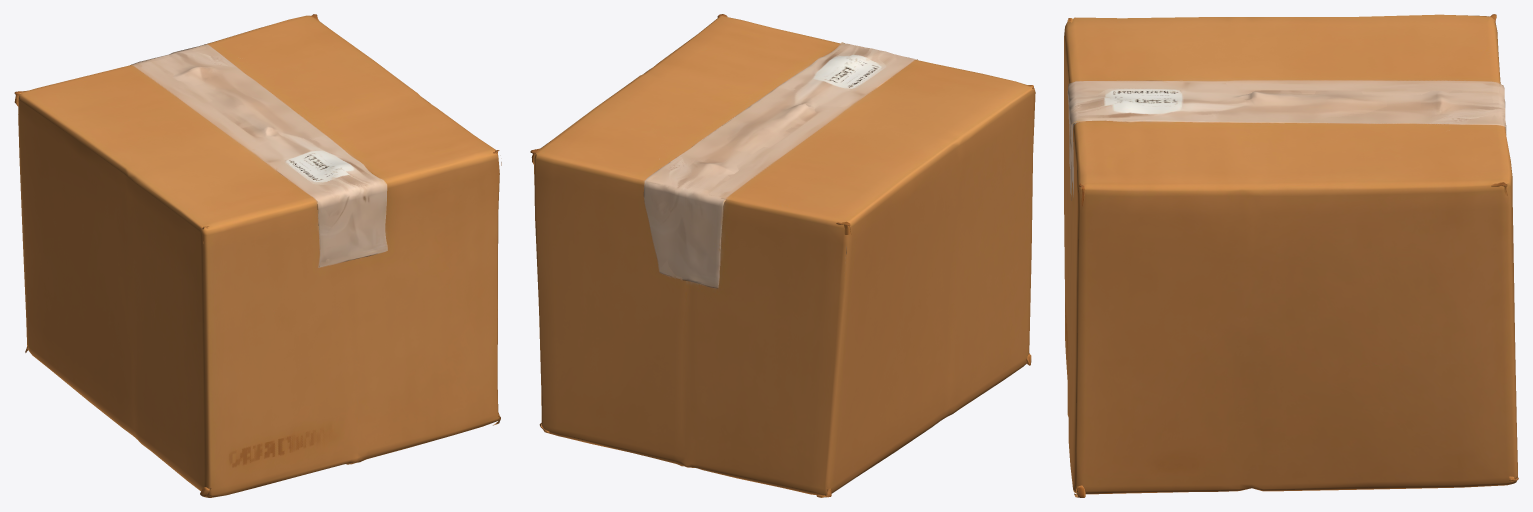
Rendered from carton.glb.
The picture shows the model from 3 angles, left to right: view 1: azimuth 30°, elevation 25°; view 2: azimuth 150°, elevation 25°; view 3: azimuth 270°, elevation 25°; orthographic projection. The views are drawn at different scales.
Visible parts, largest first — view 1: tripo_node_fc987ef6-8c1b-4297-8765-30709dc8c670; view 2: tripo_node_fc987ef6-8c1b-4297-8765-30709dc8c670; view 3: tripo_node_fc987ef6-8c1b-4297-8765-30709dc8c670.
Boxes of the visible parts, left/top/right/bottom form: tripo_node_fc987ef6-8c1b-4297-8765-30709dc8c670: left=14, top=14, right=501, bottom=497; tripo_node_fc987ef6-8c1b-4297-8765-30709dc8c670: left=530, top=14, right=1035, bottom=497; tripo_node_fc987ef6-8c1b-4297-8765-30709dc8c670: left=1064, top=14, right=1518, bottom=497.
Size of the model in its own units: 0.9004 by 0.7832 by 0.998.
Materials: 1 (1 with a texture image).
